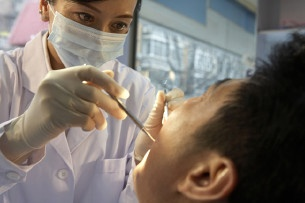Mask: (55, 2, 127, 75)
